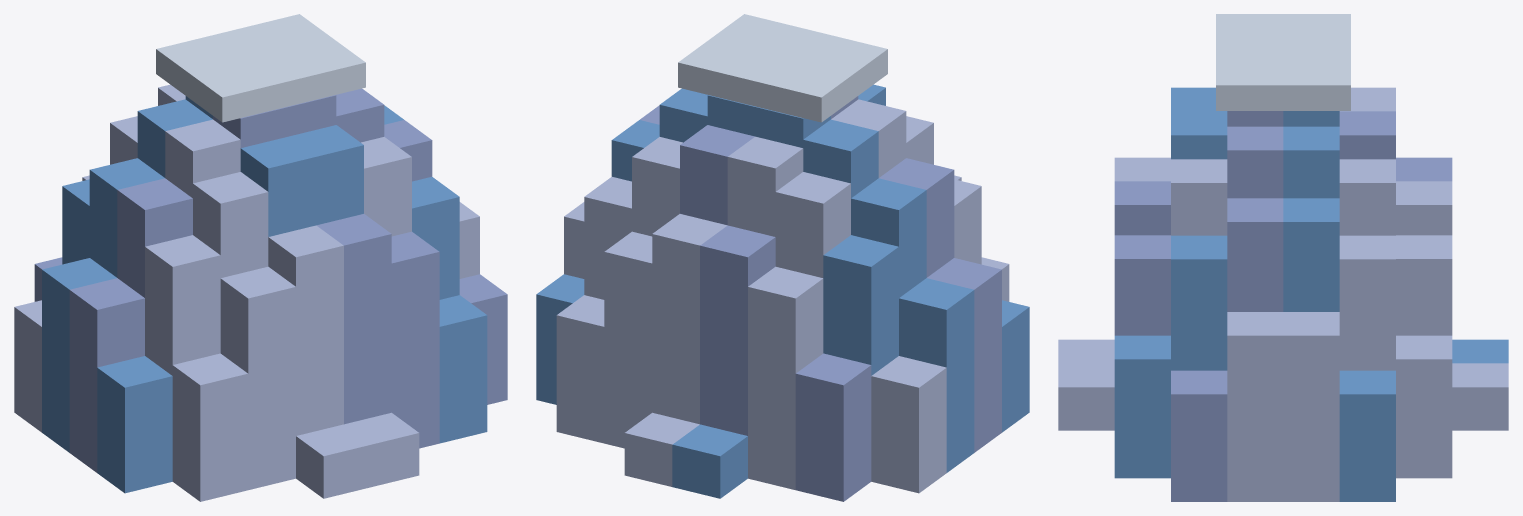
The model's file is IceRoundBoulder.glb.
3 views of the same model, side by side, from view 1: azimuth 30°, elevation 25°; view 2: azimuth 150°, elevation 25°; view 3: azimuth 270°, elevation 25° (orthographic).
Parts seen in each view (by area): view 1: IceRoundBoulder; view 2: IceRoundBoulder; view 3: IceRoundBoulder.
Part boxes in pixels (x1,y1,x2,y2): IceRoundBoulder: (14, 14, 507, 501); IceRoundBoulder: (536, 14, 1029, 501); IceRoundBoulder: (1058, 14, 1508, 501).
Size of the model in its own units: 8 by 7 by 8.
Materials: 1 (1 with a texture image).
